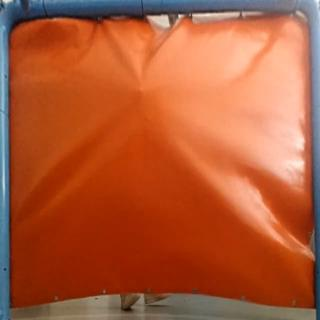Hit-hRxx: (134, 82, 152, 101)
